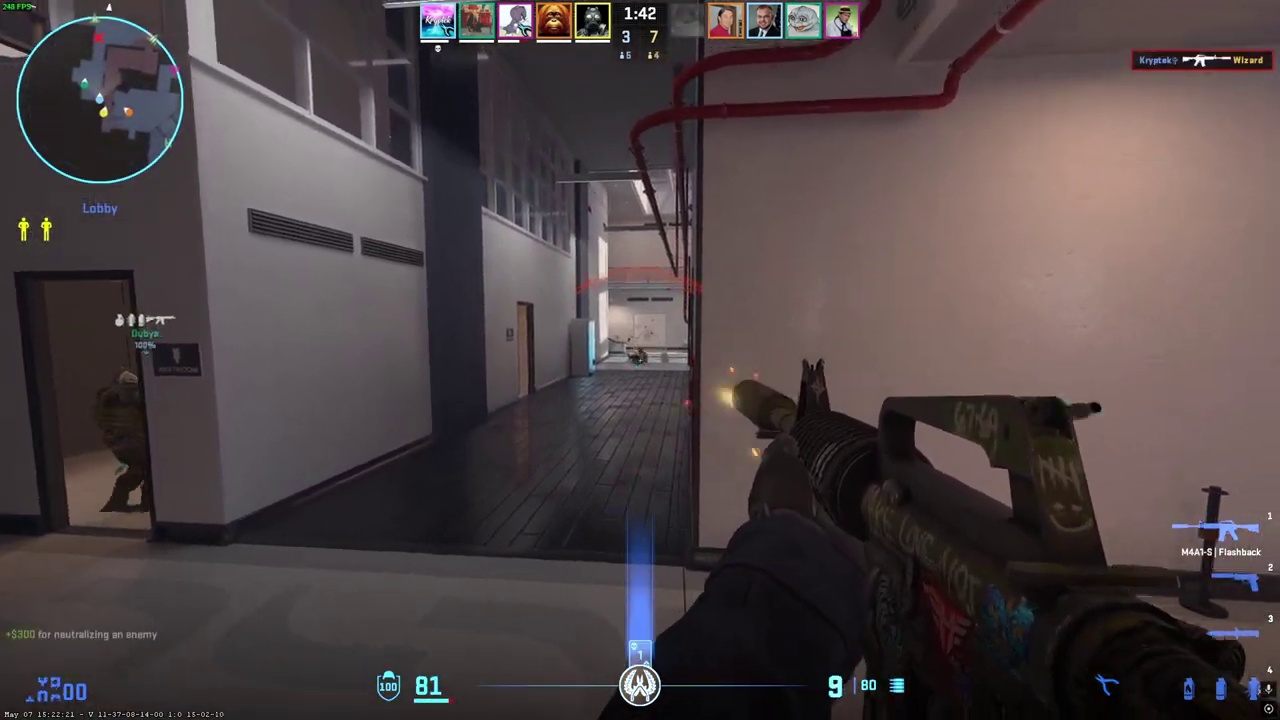CT: (97, 364, 152, 514)
